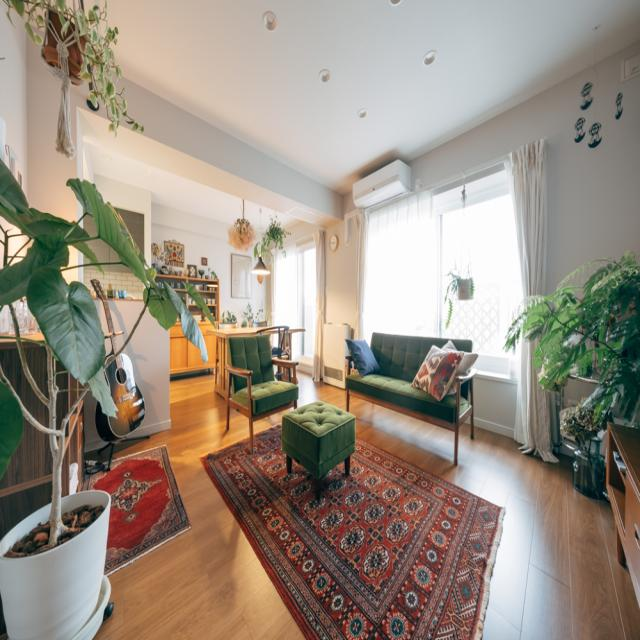vintage chair: (221, 329, 304, 449)
vintage sofa: (340, 328, 477, 469)
